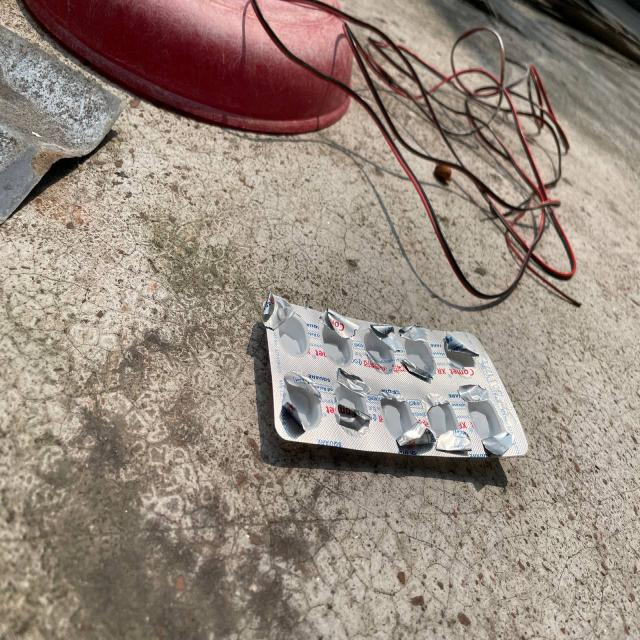Cable: (360, 0, 588, 307)
Medical Waste: (258, 295, 530, 521)
Metal: (0, 52, 128, 236)
Plastics: (30, 0, 357, 124)
